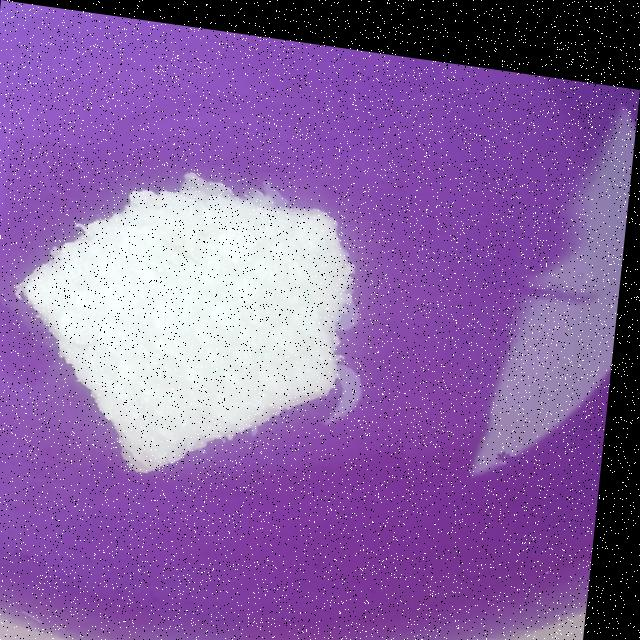thermocoal: (0, 136, 433, 537)
